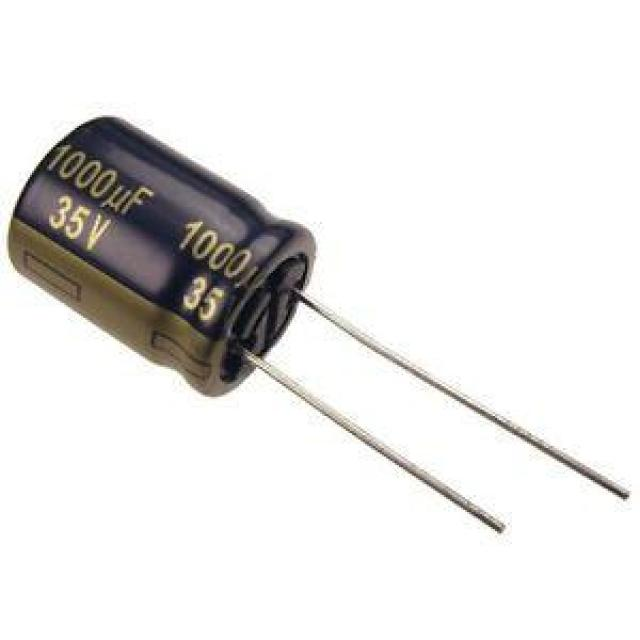Capacitor: (6, 117, 320, 399)
